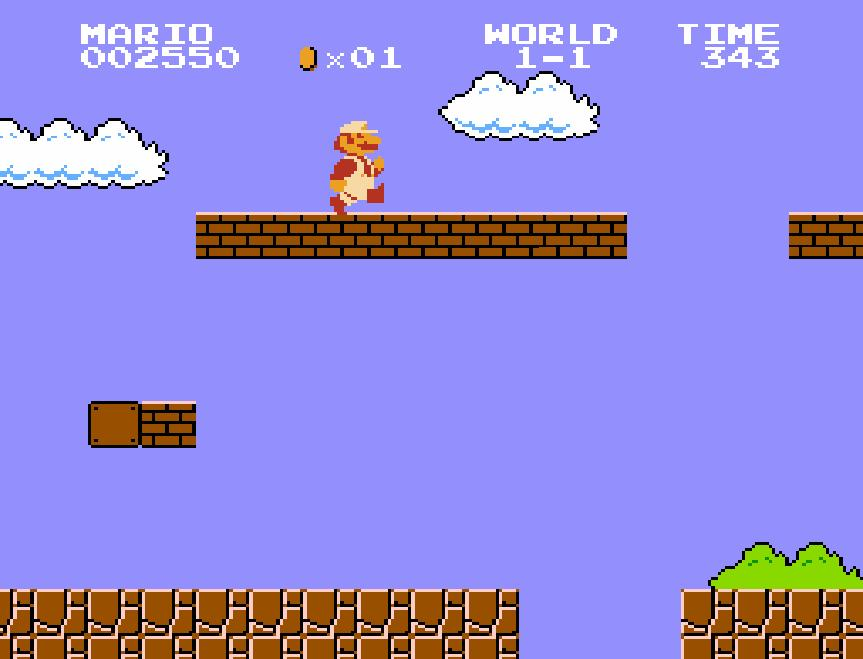fire_mario: (328, 118, 386, 216)
